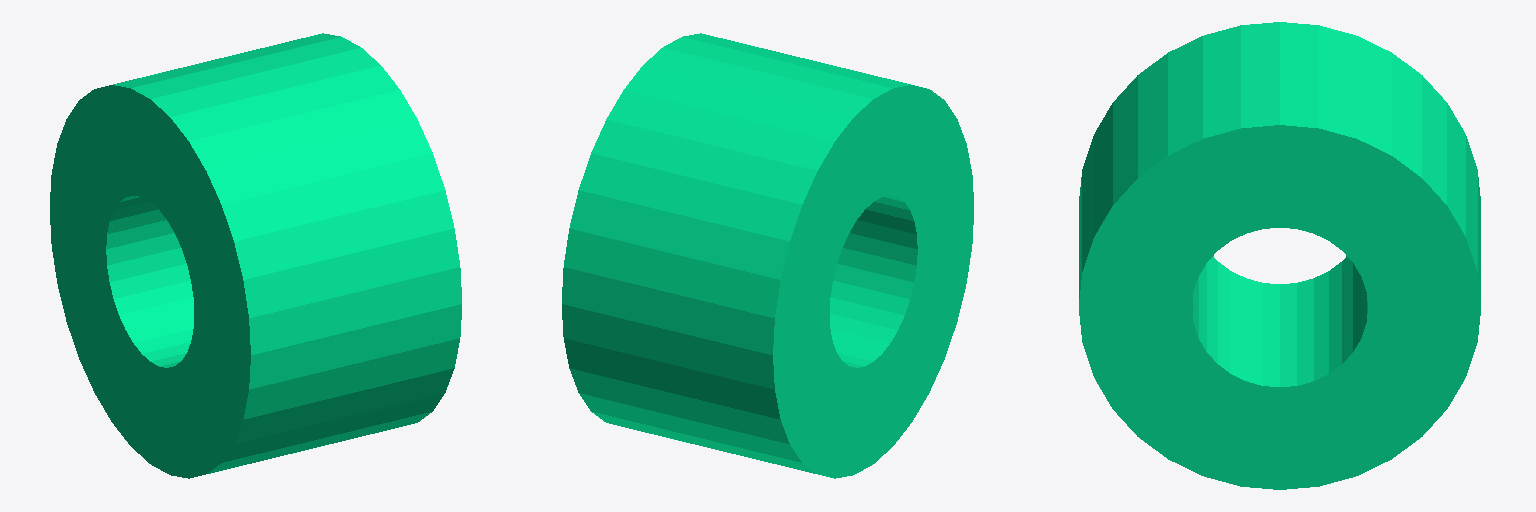
The model's file is Holzzylinder4.obj.
The picture shows the model from 3 angles: view 1: azimuth 30°, elevation 25°; view 2: azimuth 150°, elevation 25°; view 3: azimuth 270°, elevation 25°; orthographic projection.
Visible parts, largest first — view 1: Holzzylinder.004_Cylinder.018; view 2: Holzzylinder.004_Cylinder.018; view 3: Holzzylinder.004_Cylinder.018.
Boxes of the visible parts, x1=… form: Holzzylinder.004_Cylinder.018: x1=50, y1=33, x2=461, y2=478; Holzzylinder.004_Cylinder.018: x1=562, y1=33, x2=973, y2=478; Holzzylinder.004_Cylinder.018: x1=1079, y1=22, x2=1480, y2=489.
Bounding box in the file's own units: 0.323 × 0.5332 × 0.5332.